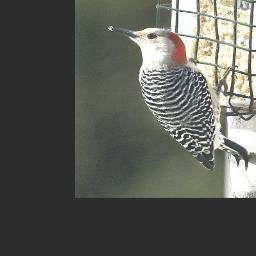Woodpecker: (107, 25, 249, 172)
